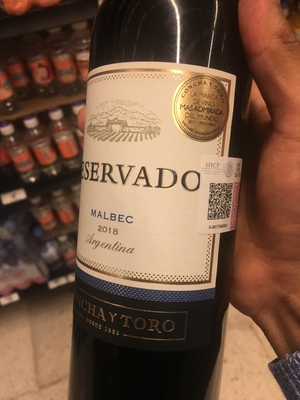reservado malbec: (53, 20, 255, 400)
